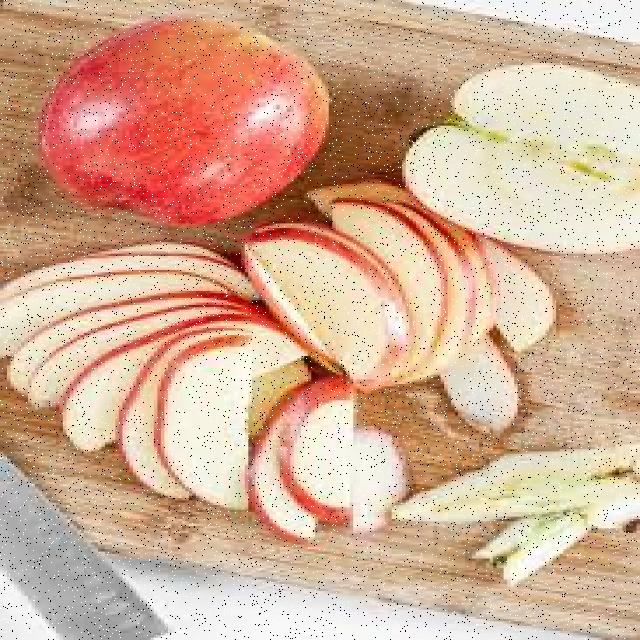Apple: (40, 18, 331, 222), (409, 55, 640, 257), (248, 230, 418, 378), (248, 375, 401, 536), (7, 287, 201, 405), (158, 338, 262, 518), (372, 206, 478, 379), (0, 241, 254, 298)
